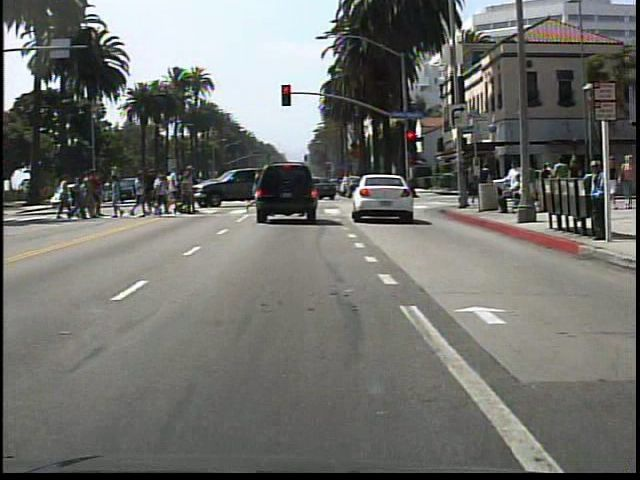person: (582, 156, 606, 242), (598, 152, 620, 208), (617, 151, 635, 212)
